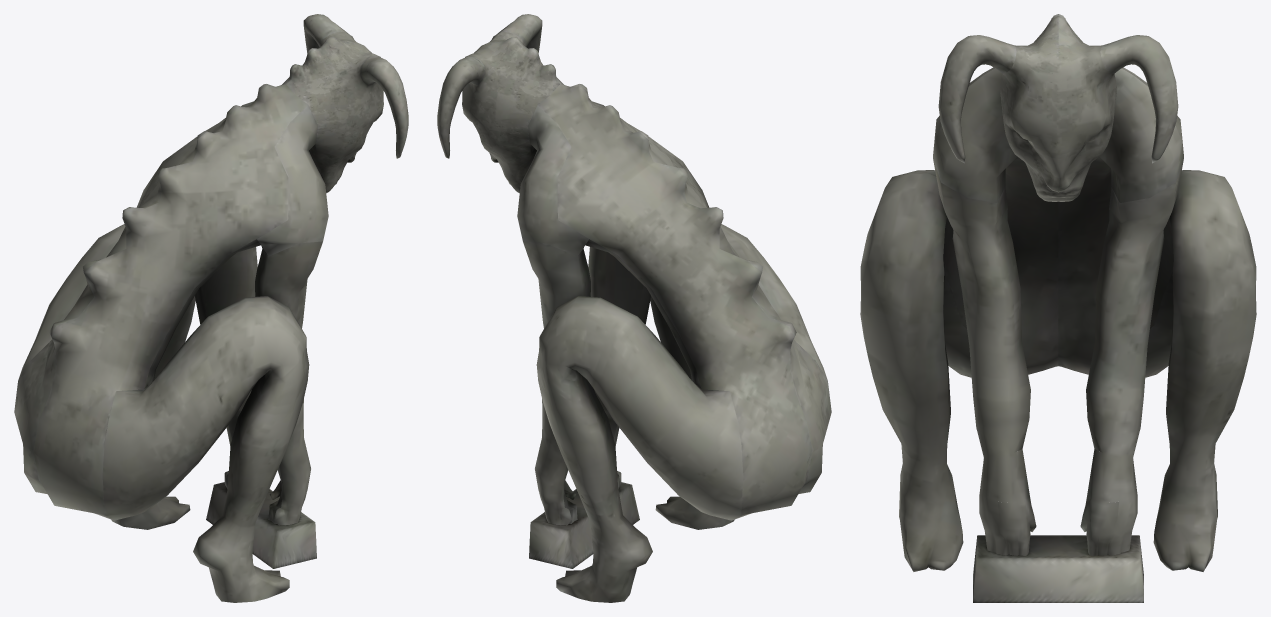
3 renders of one model, left to right at view 1: azimuth 30°, elevation 25°; view 2: azimuth 150°, elevation 25°; view 3: azimuth 270°, elevation 25°, orthographic. The views are drawn at different scales.
Parts seen in each view (by area): view 1: body0_model0_lod0_mesh0; view 2: body0_model0_lod0_mesh0; view 3: body0_model0_lod0_mesh0.
Part boxes in pixels (left/top/right/bottom): body0_model0_lod0_mesh0: left=14, top=14, right=408, bottom=602; body0_model0_lod0_mesh0: left=437, top=14, right=831, bottom=602; body0_model0_lod0_mesh0: left=860, top=14, right=1256, bottom=602.
Bounding box in the file's own units: 82.19 × 112 × 64.82.
1 material, 1 textured.
